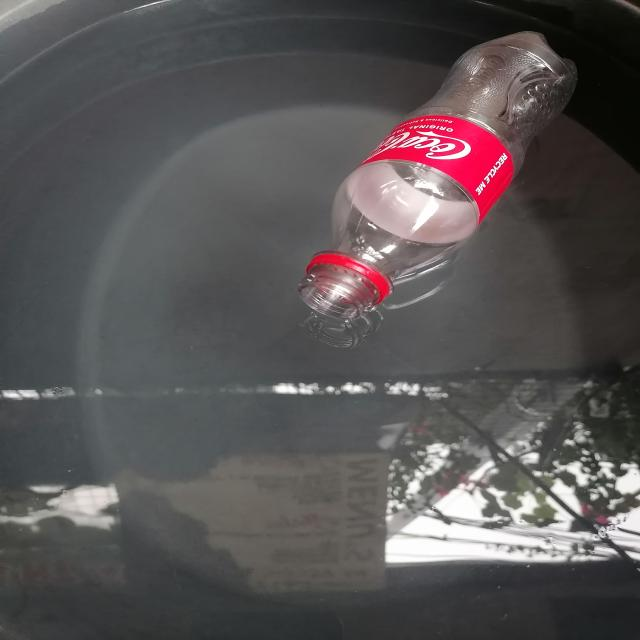Plastic Bottle: (286, 14, 599, 336)
